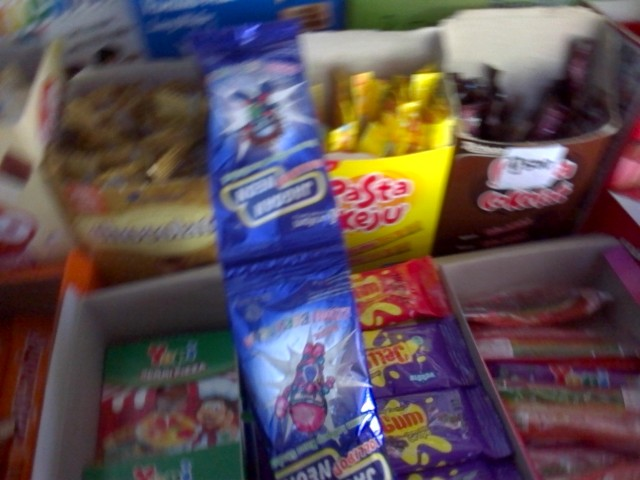jagoan neon: (224, 246, 394, 478), (195, 19, 346, 276)
